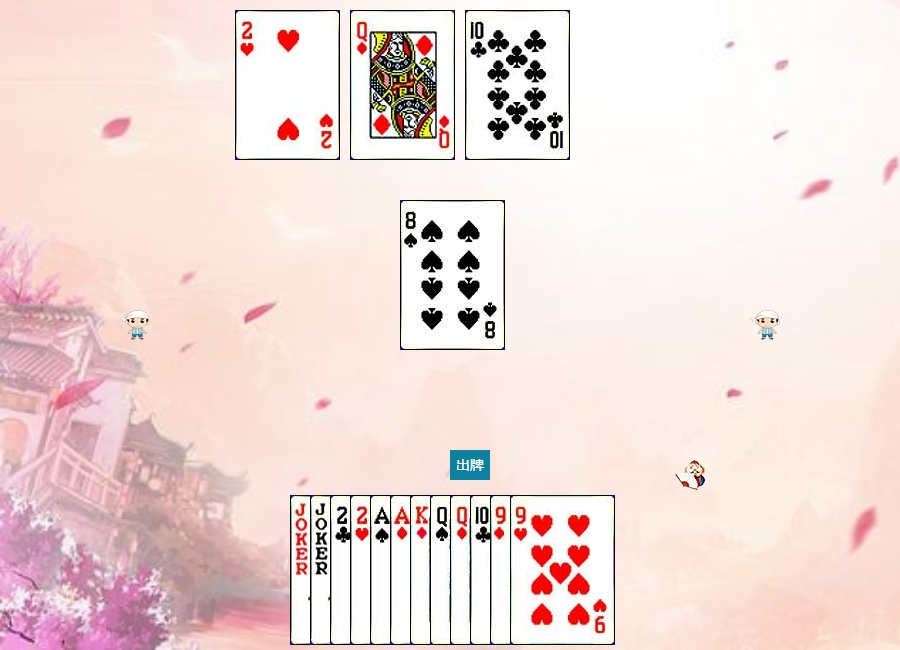10~2: (465, 10, 570, 160), (470, 495, 575, 645)
12~1: (350, 10, 455, 160), (450, 495, 555, 645)
12~4: (430, 495, 535, 645)
13~1: (410, 495, 515, 645)
14~1: (390, 495, 495, 645)
14~4: (370, 495, 475, 645)
15~2: (330, 495, 435, 645)
15~3: (235, 10, 340, 160), (350, 495, 455, 645)
17~3: (310, 495, 415, 645)
18~4: (290, 495, 395, 645)
8~4: (400, 200, 505, 350)
9~1: (490, 495, 595, 645)
9~3: (510, 495, 615, 645)
